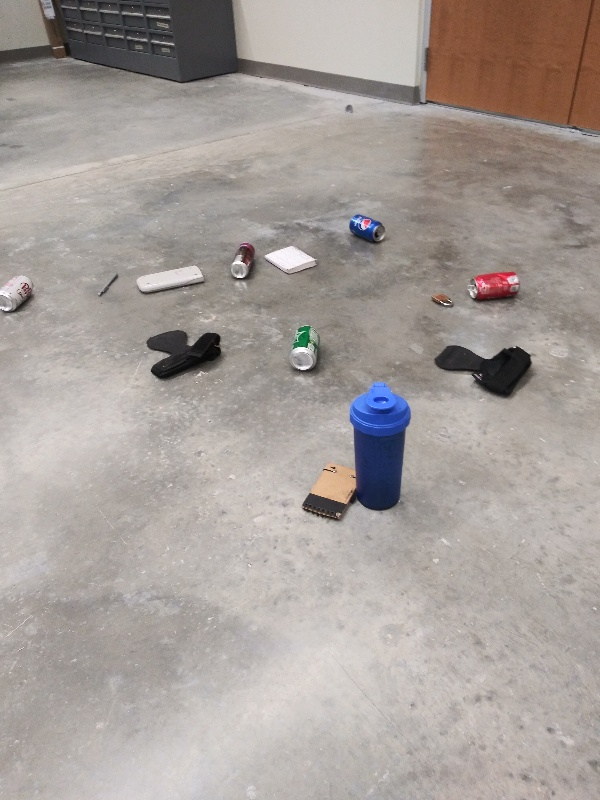can: (463, 269, 527, 301), (286, 322, 322, 371), (345, 209, 391, 244), (1, 272, 37, 311), (229, 240, 259, 282)
